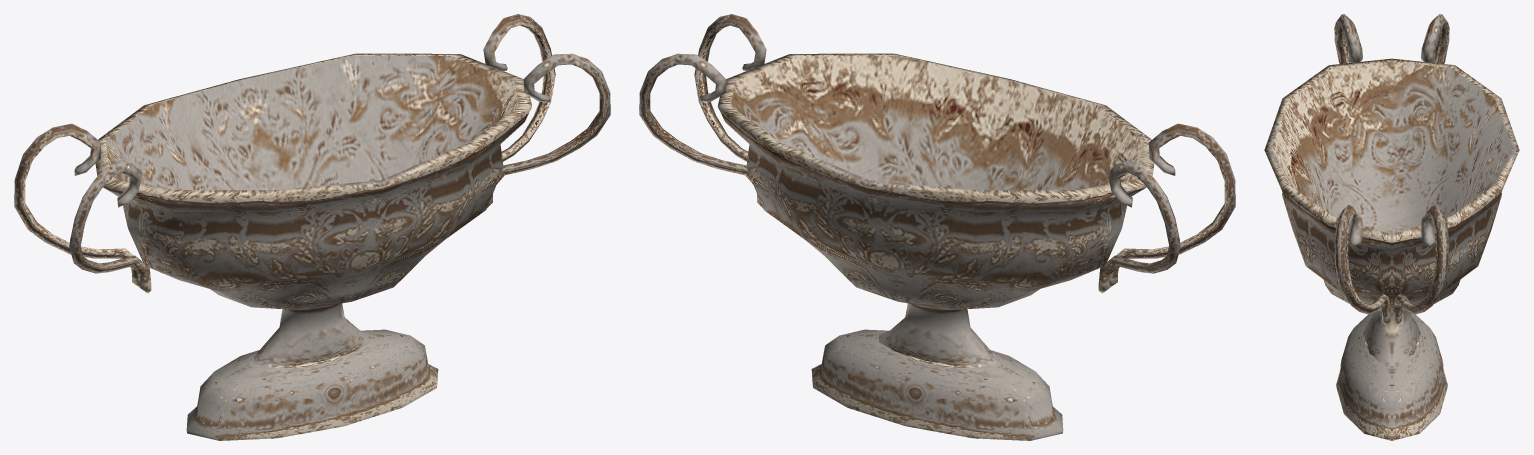
File: copaBernabeu.FBX
3 views of the same model, side by side, from view 1: azimuth 30°, elevation 25°; view 2: azimuth 150°, elevation 25°; view 3: azimuth 270°, elevation 25° (orthographic). The views are drawn at different scales.
Parts seen in each view (by area): view 1: copaBernabeu; view 2: copaBernabeu; view 3: copaBernabeu.
Part boxes in pixels (box(x1,y1,x2,y2)): copaBernabeu: box(14, 14, 610, 440); copaBernabeu: box(639, 14, 1235, 440); copaBernabeu: box(1264, 14, 1519, 440).
Size of the model in its own units: 160 by 88.85 by 74.64.
